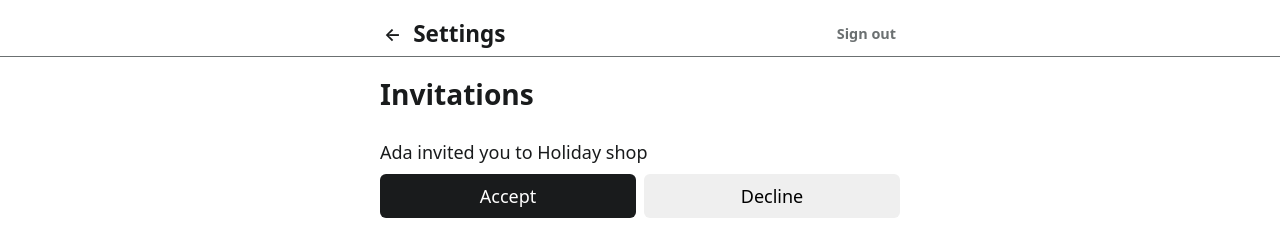
Test: SettingsView › lets the invitee decline a pending invitation
The width and height of the screenshot is (1280, 235).
Click the button named "decline-invitation" at (772, 196), box [644, 174, 900, 218]
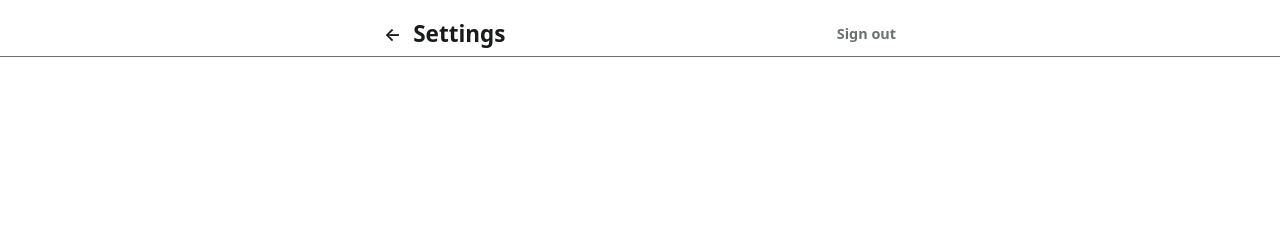
Now the text "Ada invited you" is gone
